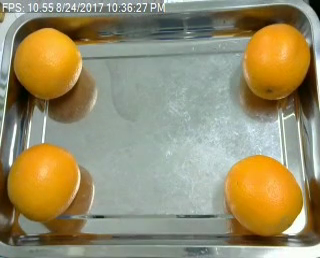Orange: (225, 155, 303, 236), (6, 141, 79, 221), (243, 22, 309, 100), (13, 25, 82, 98)
